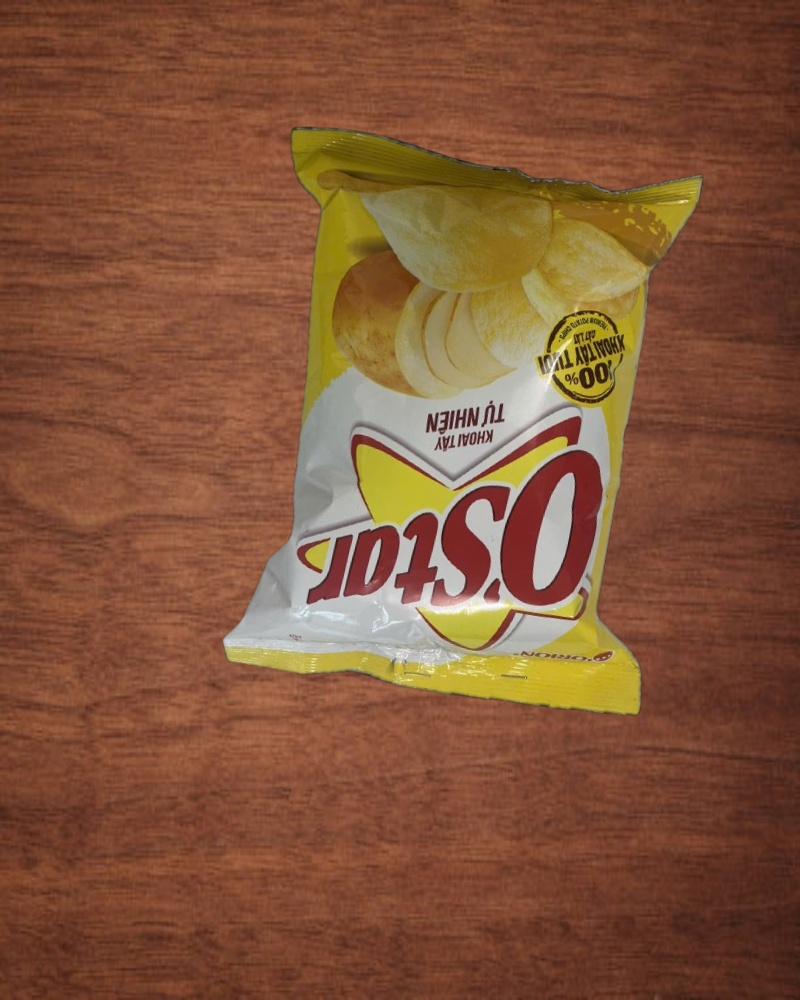Snack cua: (206, 112, 730, 727)
